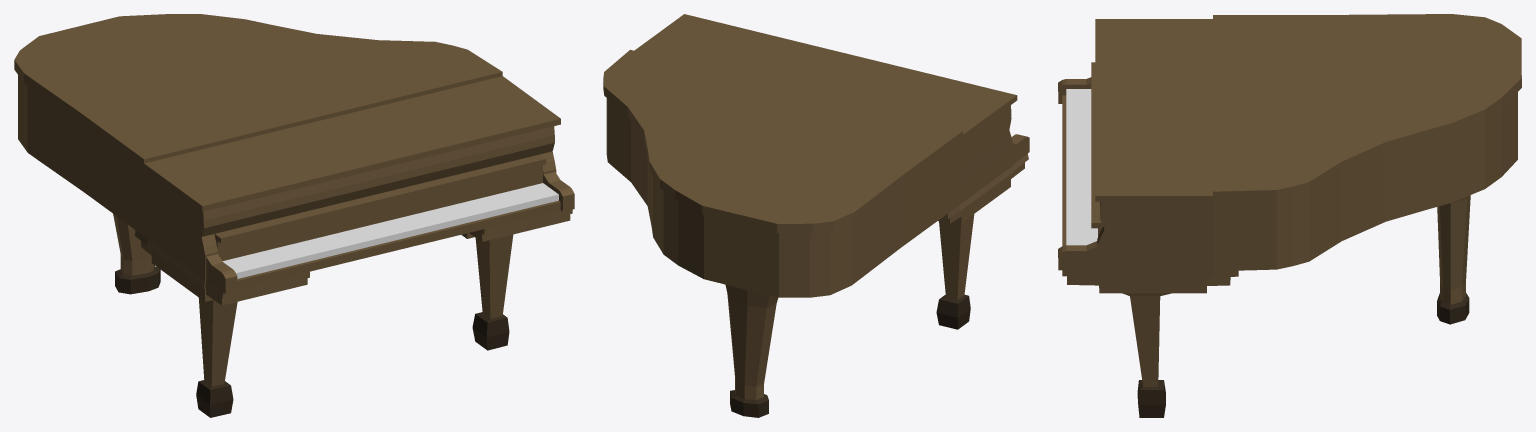
File: Piano.dae
3 views of the same model, side by side, from view 1: azimuth 30°, elevation 25°; view 2: azimuth 150°, elevation 25°; view 3: azimuth 270°, elevation 25° (orthographic). The views are drawn at different scales.
Parts seen in each view (by area): view 1: Cubo.001; view 2: Cubo.001; view 3: Cubo.001.
Boxes of the visible parts, x1,y1,x2,y2 form: Cubo.001: (14,14,574,417); Cubo.001: (603,14,1029,417); Cubo.001: (1058,14,1521,417).
Bounding box in the file's own units: 6.78 × 7.48 × 4.34.
